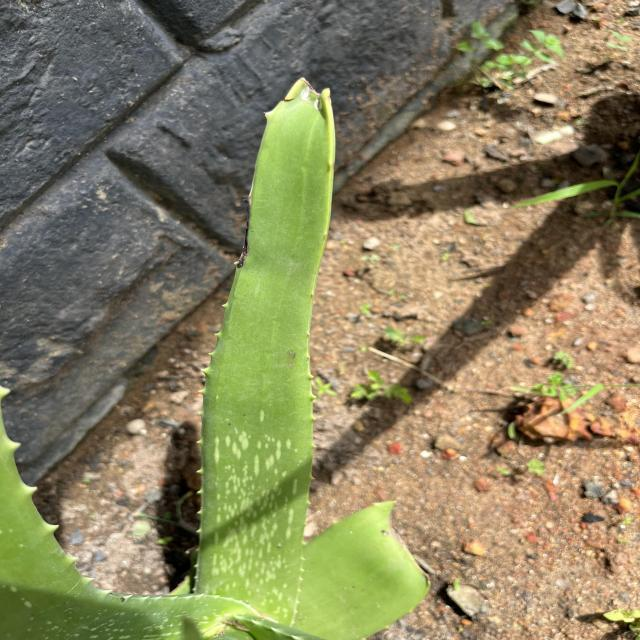Aloe vera: (191, 73, 347, 624)
